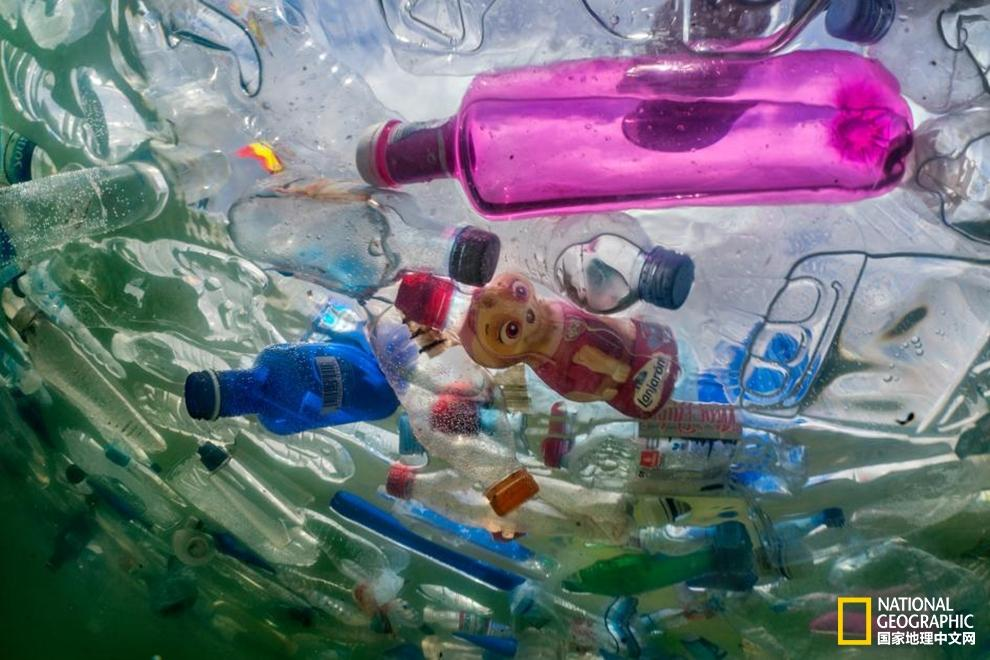Plastic: (332, 39, 962, 234), (539, 377, 860, 521), (173, 320, 440, 453)
